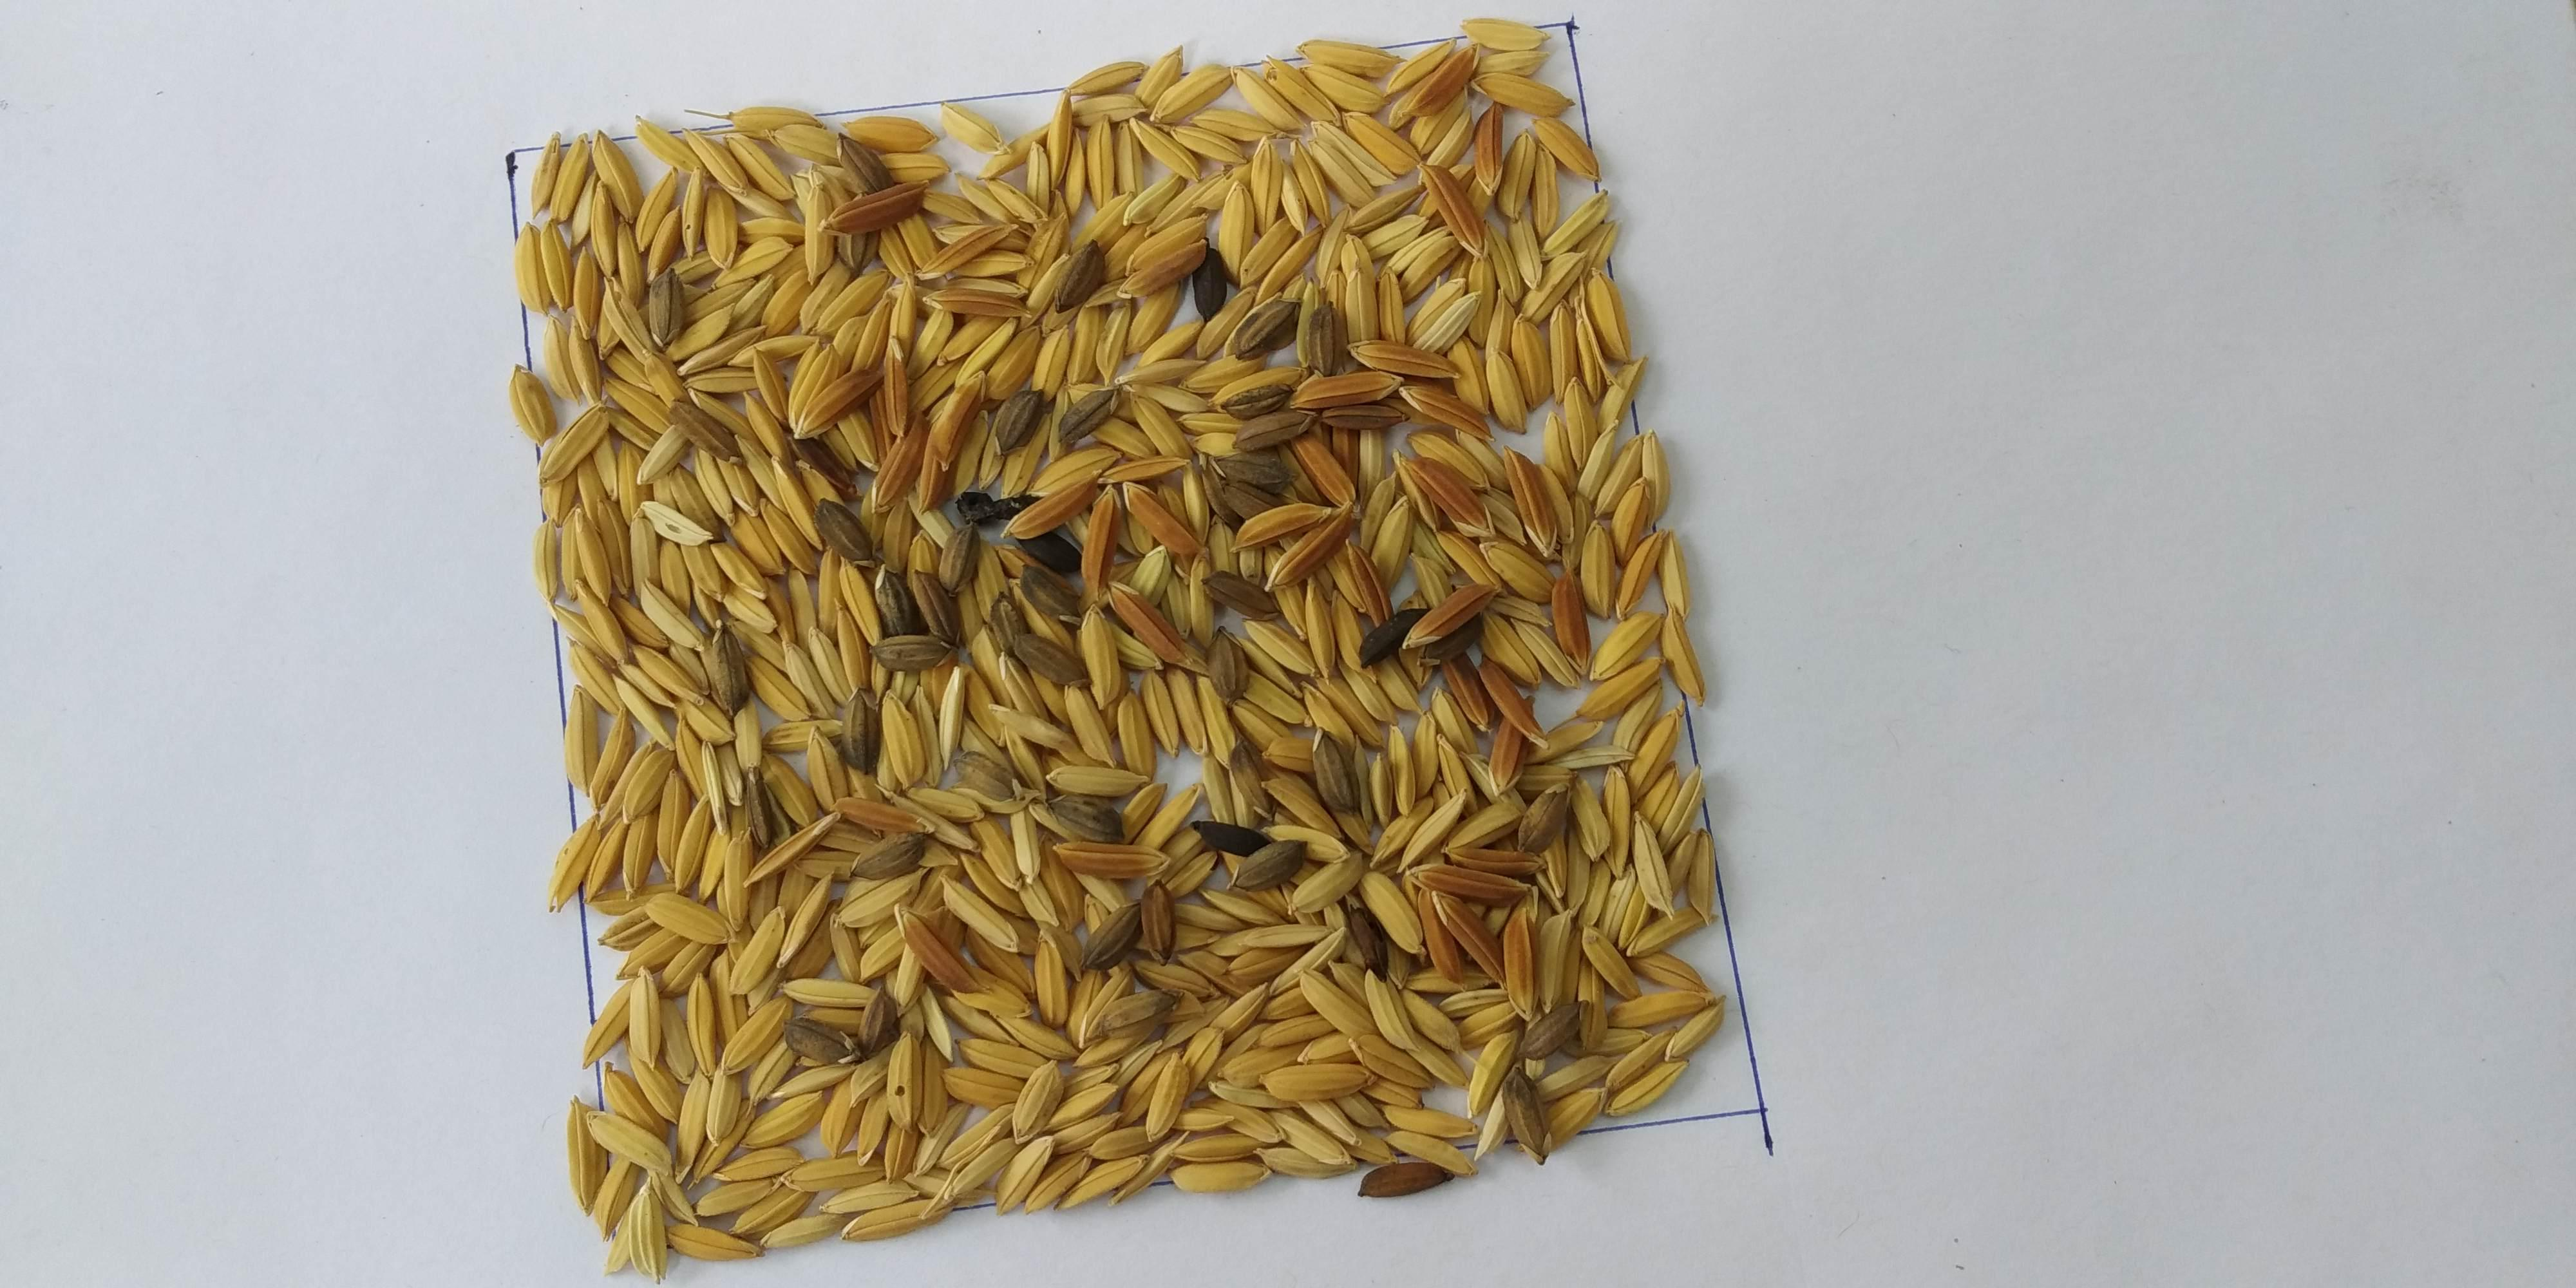impure: (616, 153, 1580, 1066)
